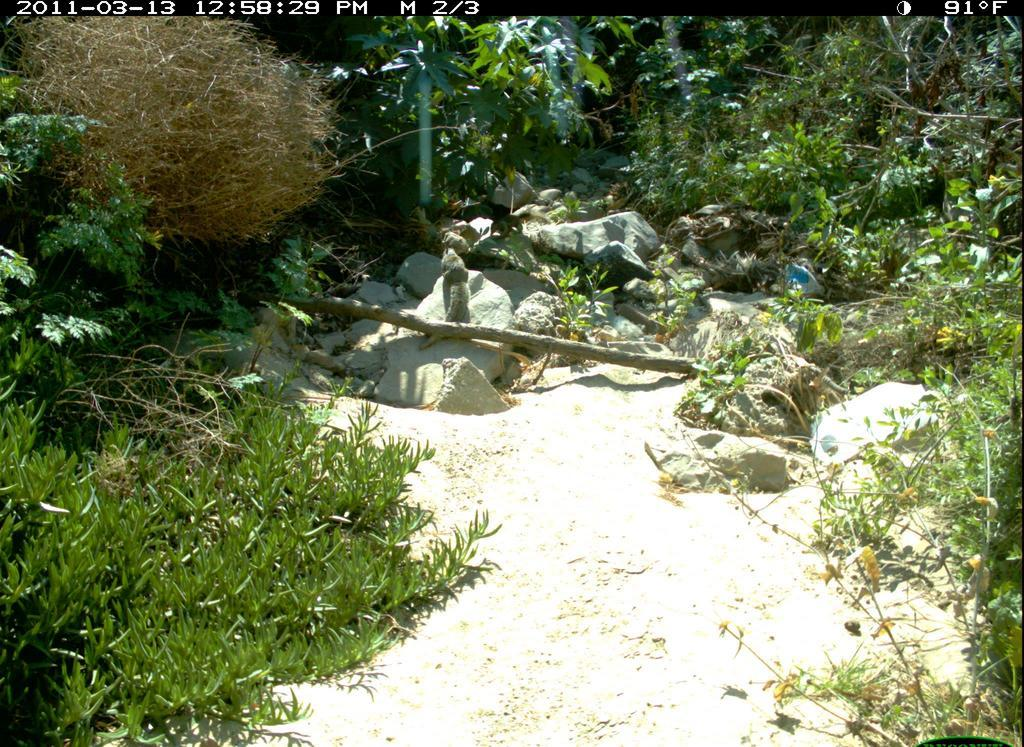squirrel: (424, 241, 478, 344)
